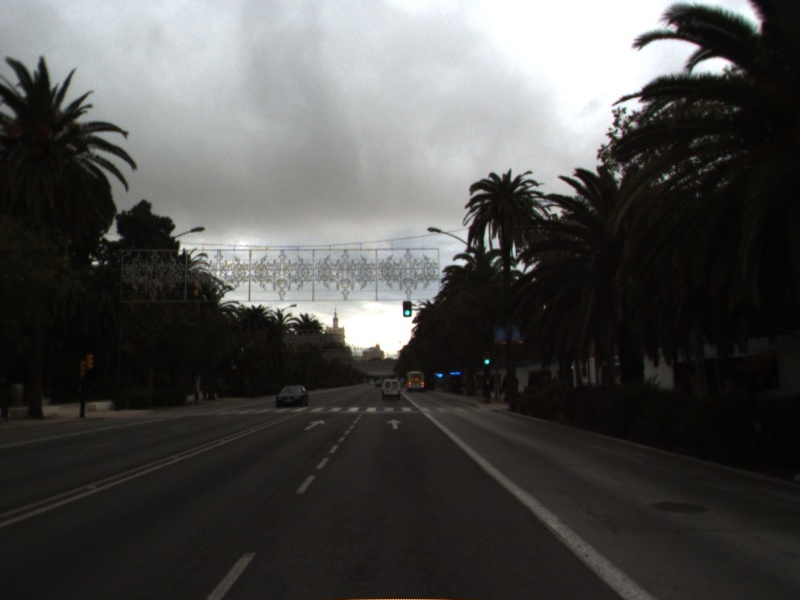STRAIGHT: (302, 418, 328, 432), (384, 417, 405, 431)
